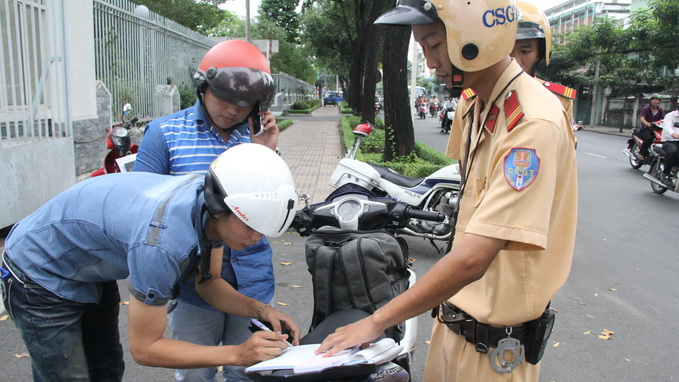police: (316, 2, 584, 382)
